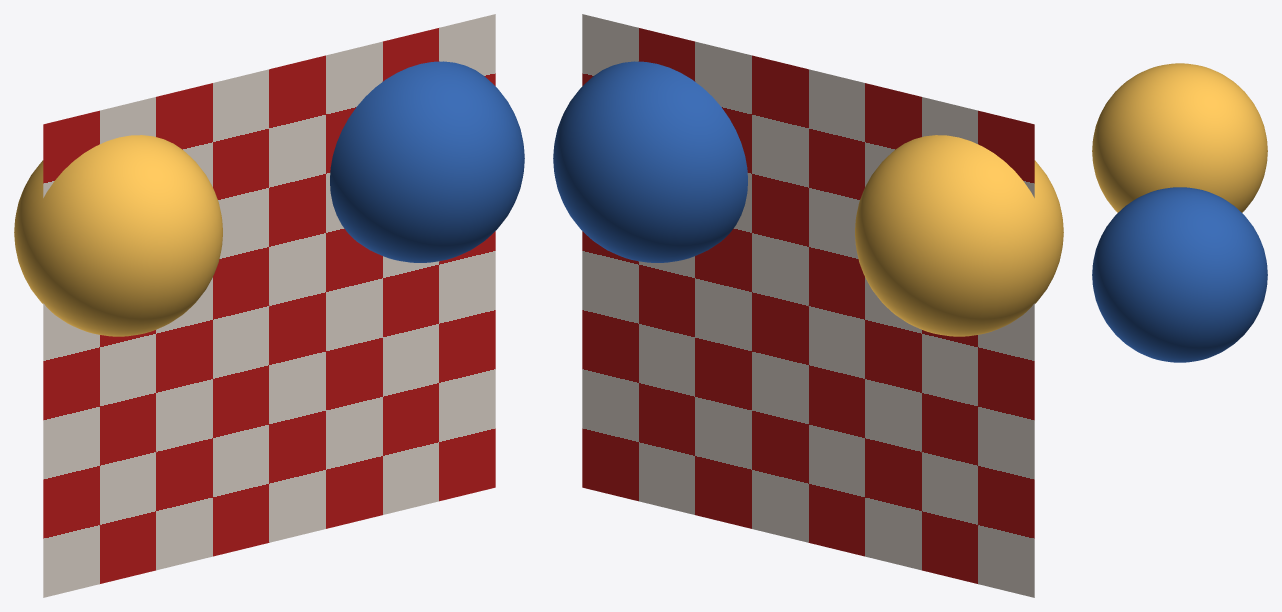
Rendered from test_scene_pbr.obj.
3 views of the same model, side by side, from view 1: azimuth 30°, elevation 25°; view 2: azimuth 150°, elevation 25°; view 3: azimuth 270°, elevation 25° (orthographic). The views are drawn at different scales.
Visible parts, largest first — view 1: mat_1_1, gold_rough_2, mat_3_3; view 2: mat_1_1, gold_rough_2, mat_3_3; view 3: mat_3_3, gold_rough_2.
Boxes of the visible parts, x1=… form: mat_1_1: x1=43, y1=14, x2=495, y2=597; gold_rough_2: x1=14, y1=135, x2=222, y2=336; mat_3_3: x1=330, y1=61, x2=524, y2=262; mat_1_1: x1=582, y1=14, x2=1034, y2=597; gold_rough_2: x1=855, y1=135, x2=1063, y2=336; mat_3_3: x1=553, y1=61, x2=747, y2=262; mat_3_3: x1=1092, y1=187, x2=1267, y2=362; gold_rough_2: x1=1092, y1=63, x2=1267, y2=212.
Bounding box in the file's own units: 3.2 × 3 × 1.2.
3 materials, 1 textured.
